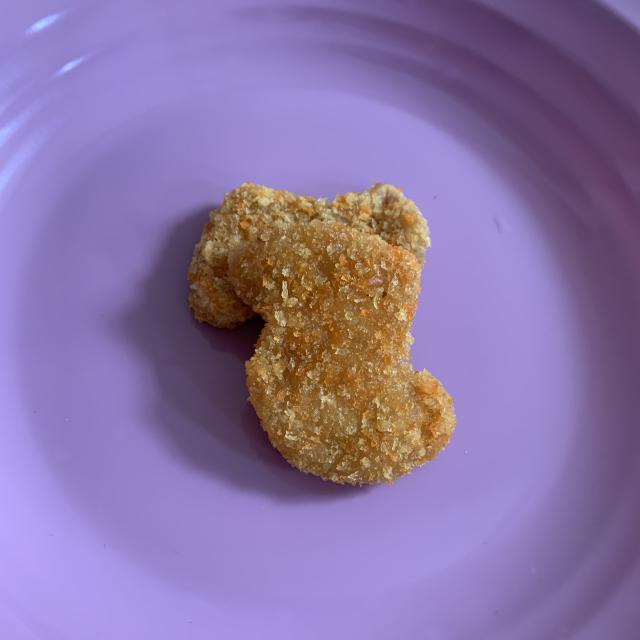Frango: (230, 227, 458, 489), (193, 181, 430, 332)
